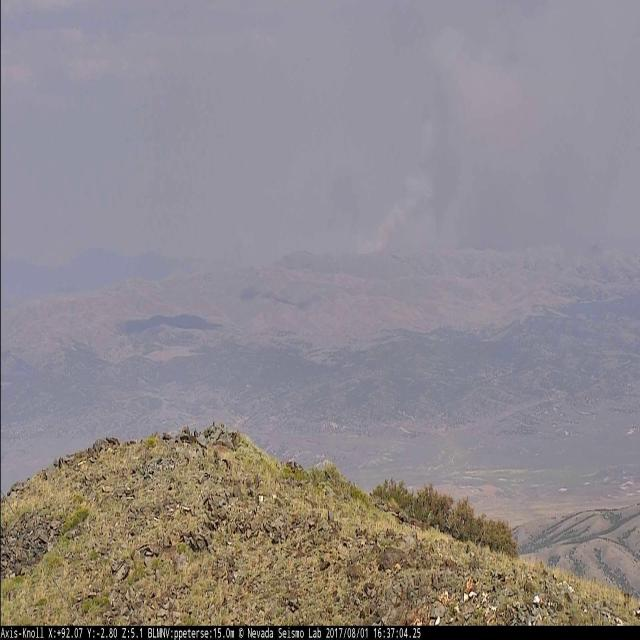smoke: (357, 19, 622, 258)
